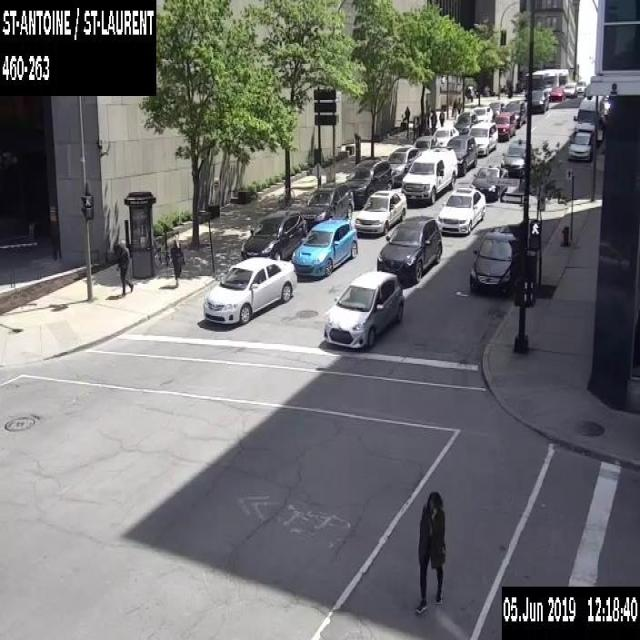bus: (524, 67, 568, 98)
pedestrian: (414, 489, 446, 615), (114, 239, 132, 296), (168, 232, 185, 287), (430, 107, 436, 132), (402, 104, 409, 124), (452, 95, 458, 118), (438, 108, 444, 126), (457, 95, 462, 114)
vehicle: (202, 255, 296, 324), (322, 269, 404, 348), (376, 215, 442, 283), (291, 216, 357, 276), (240, 209, 307, 260), (400, 146, 457, 203), (468, 228, 515, 297), (299, 181, 354, 229), (436, 186, 485, 233), (344, 158, 394, 204), (354, 189, 406, 233), (469, 163, 508, 200), (573, 95, 604, 139), (387, 145, 421, 184), (445, 134, 477, 174), (499, 138, 532, 176), (467, 121, 498, 154), (566, 131, 593, 160), (453, 110, 478, 135), (494, 111, 516, 139), (503, 100, 525, 127), (432, 125, 458, 146), (413, 134, 439, 154), (530, 88, 548, 113), (473, 105, 493, 122), (488, 101, 505, 119), (549, 86, 564, 100), (562, 81, 577, 95), (576, 80, 586, 93)
